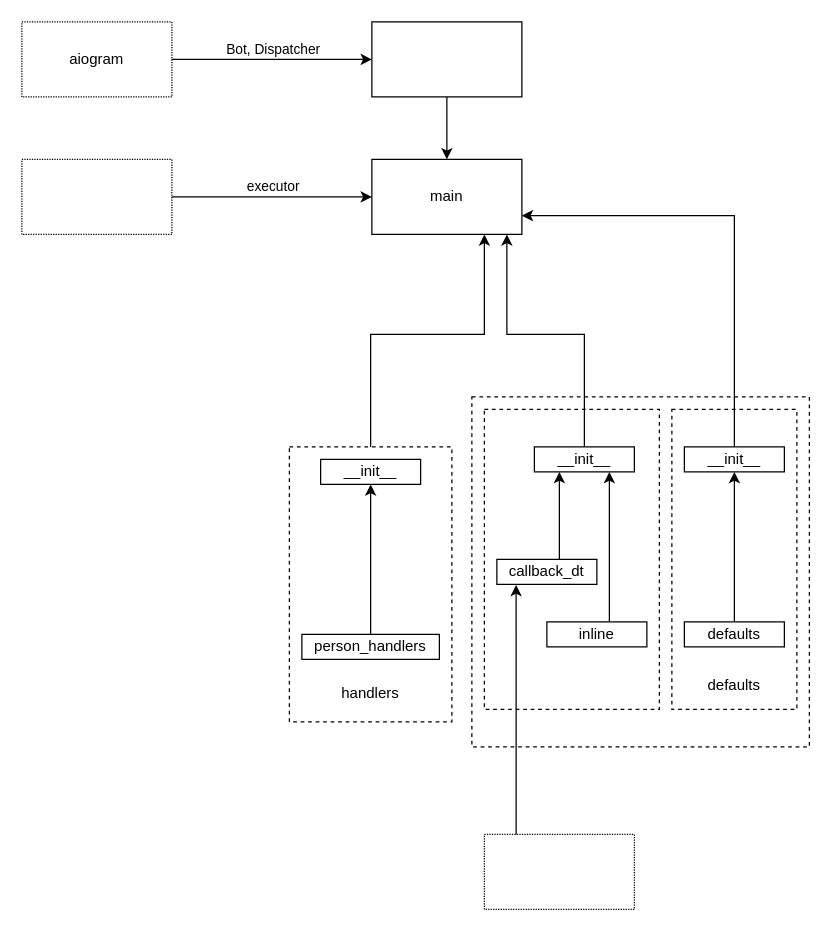
This 831x931 diagram has some shape labels left out. The shapes that lost their labels are listed below. From the top down, each one's box as (x1, y1, x2, y2) in pixels, then its label:
(371, 21, 522, 97): loader
(21, 158, 172, 234): aiogram/ utils
(483, 408, 659, 709): inlines
(471, 396, 809, 747): keyboards
(483, 833, 634, 909): aiogram/ utils/ callback_data
